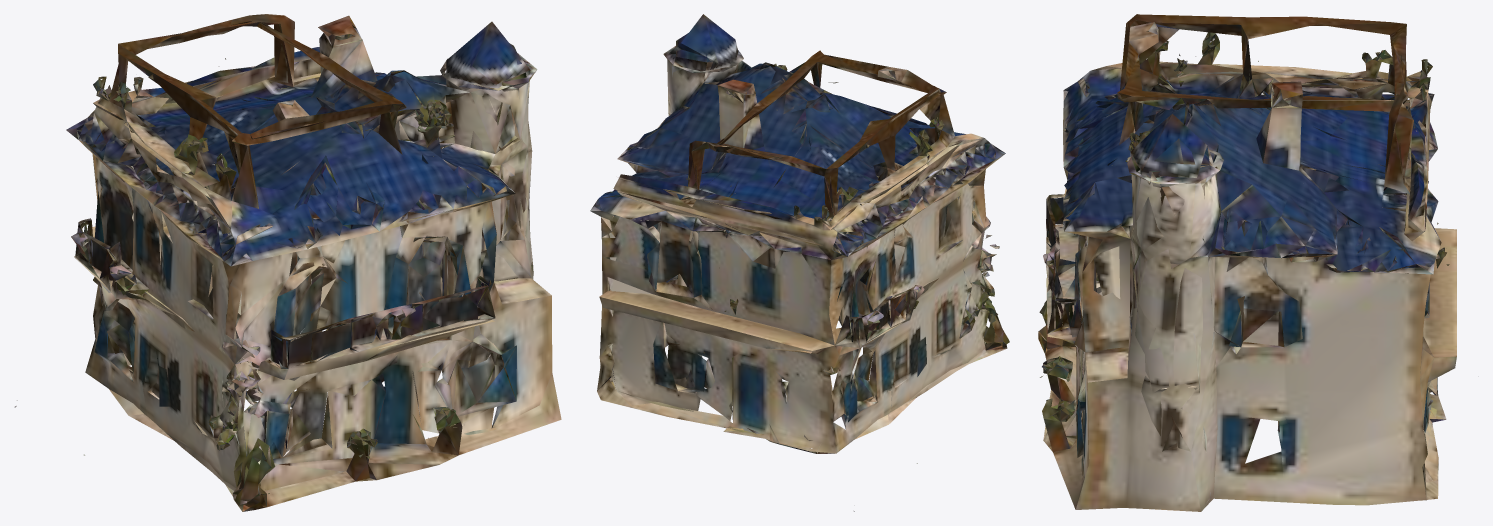
Rendered from tower_2.glb.
The picture shows the model from 3 angles, left to right: view 1: azimuth 30°, elevation 25°; view 2: azimuth 150°, elevation 25°; view 3: azimuth 270°, elevation 25°; orthographic projection. The views are drawn at different scales.
Visible parts, largest first — view 1: harbor__tower_2__neural_lod; view 2: harbor__tower_2__neural_lod; view 3: harbor__tower_2__neural_lod.
Boxes of the visible parts, box(x1,y1,x2,y2) form: harbor__tower_2__neural_lod: box(14, 14, 561, 511); harbor__tower_2__neural_lod: box(590, 14, 1009, 511); harbor__tower_2__neural_lod: box(1038, 14, 1456, 511).
Size of the model in its own units: 0.8819 by 0.9382 by 0.8711.
1 material, 1 textured.
